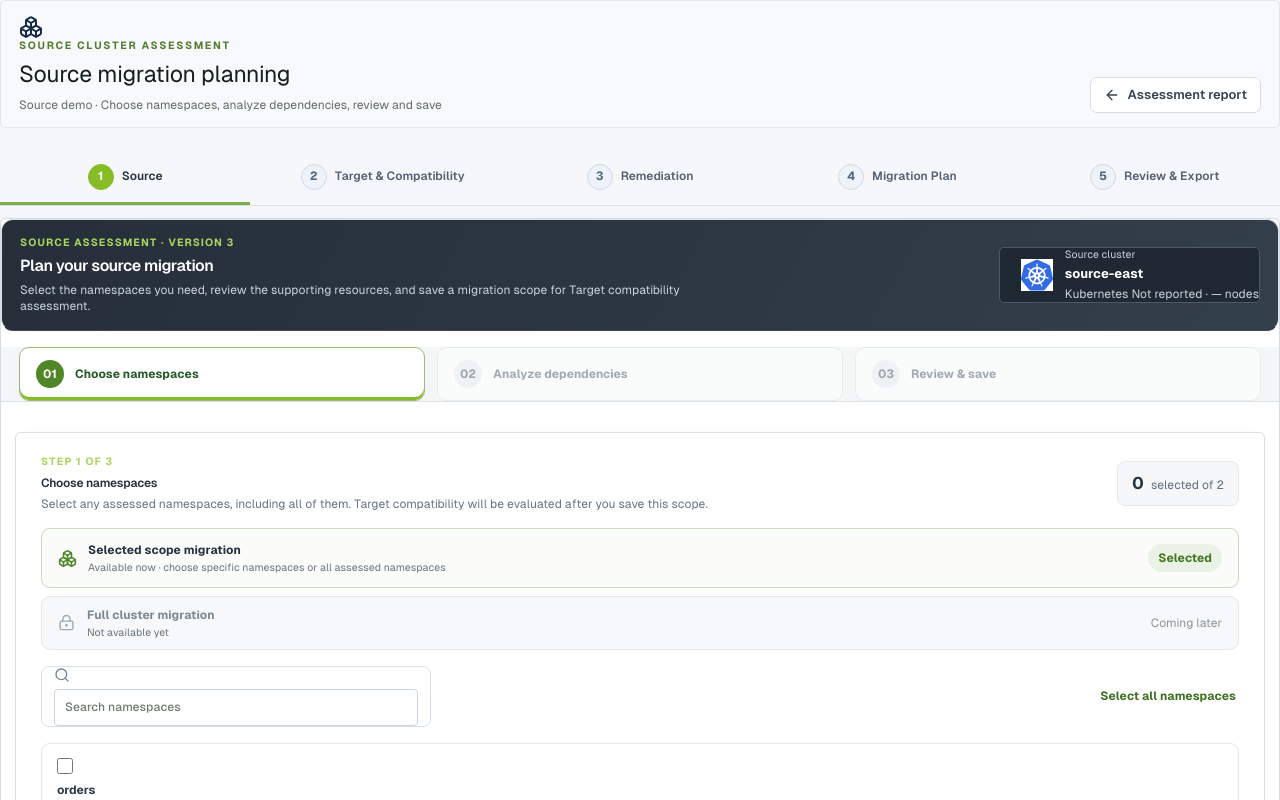
it: guided Source planning › refreshes Source evidence and includes discovered workloads and PVCs
Click the button "Select all namespaces". click: coordinates (1168, 696)
box: [1097, 682, 1239, 711]
(page scrolled)
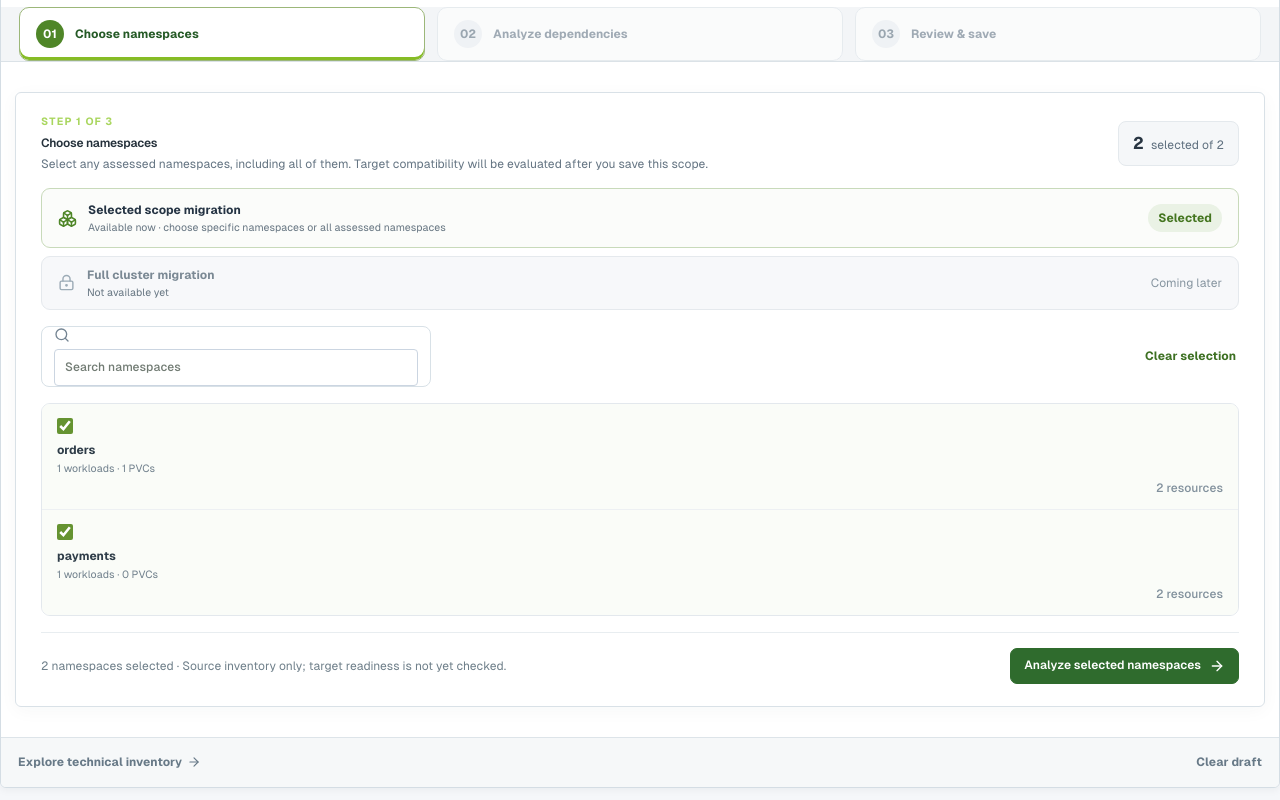
Click the button "Analyze selected namespaces". click: coordinates (1125, 666)
box: [1010, 648, 1239, 684]
(page scrolled)
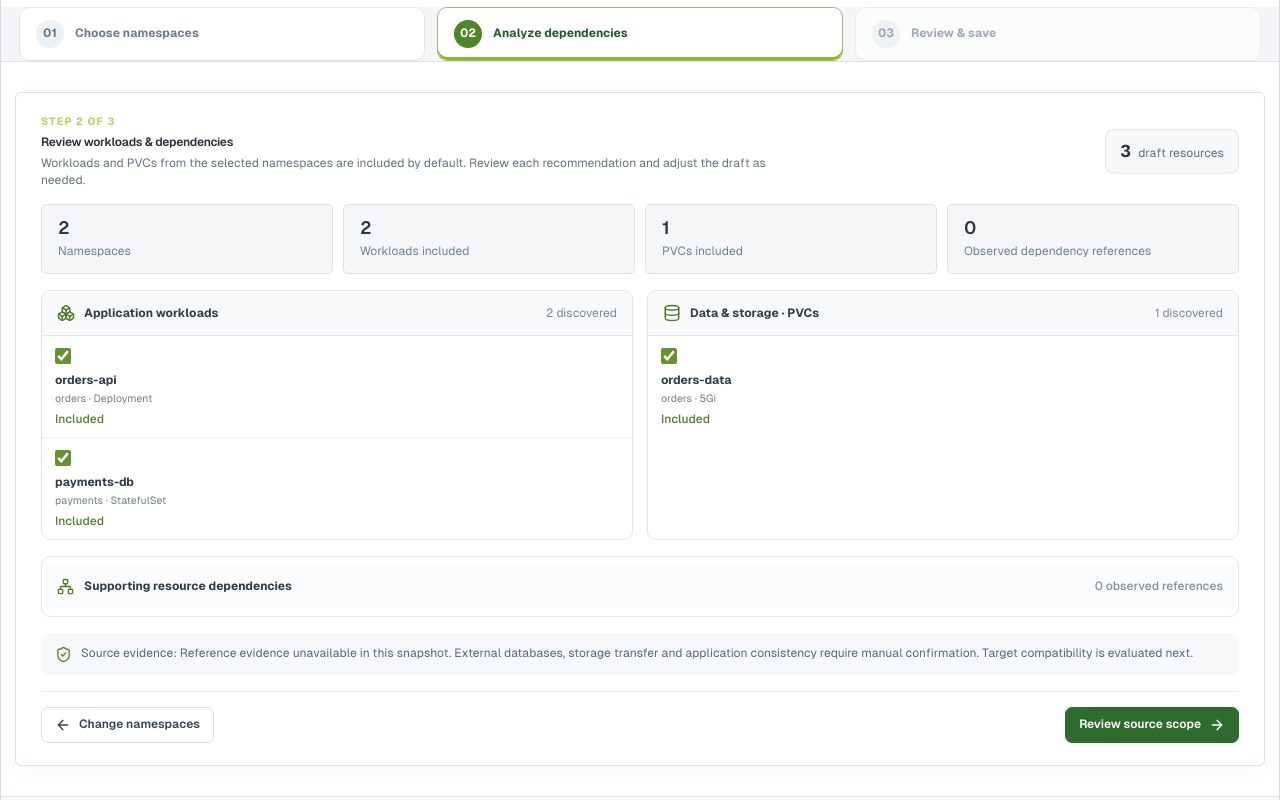
expect the heading "Review workloads & dependencies" is shown: met, box [41, 135, 233, 149]
expect the text "orders-api" is shown: met, box [55, 373, 117, 387]
expect the text "orders-data" is shown: met, box [661, 373, 732, 387]
Click the button "Review source scope". click: coordinates (1152, 725)
box: [1065, 707, 1239, 743]
(page scrolled)
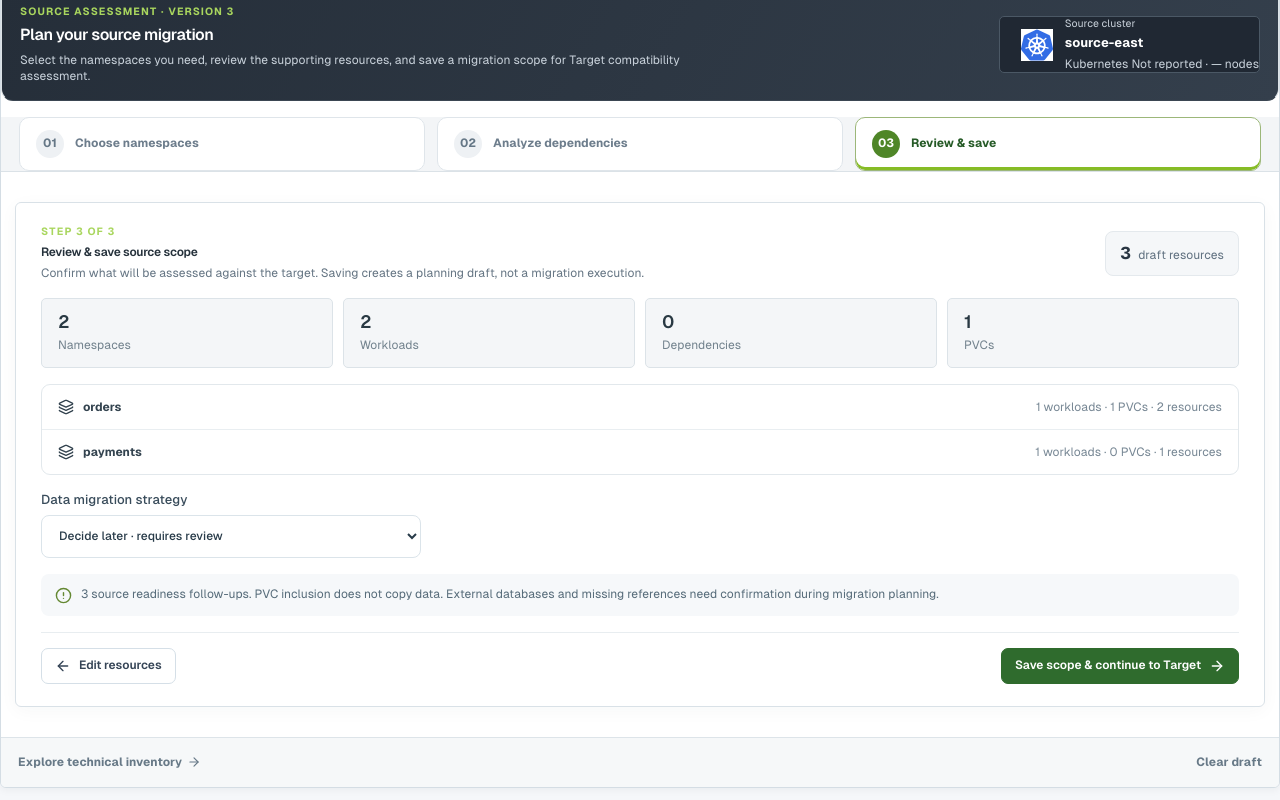
expect the heading "Review & save source scope" is shown: met, box [41, 245, 198, 259]
